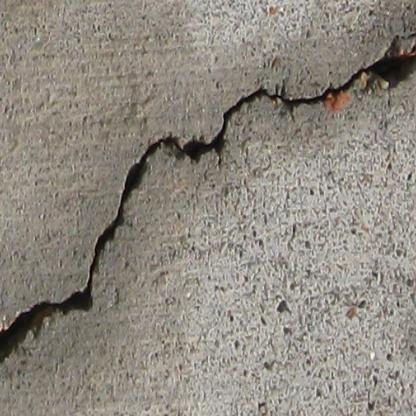Cracks: (0, 29, 416, 390)
